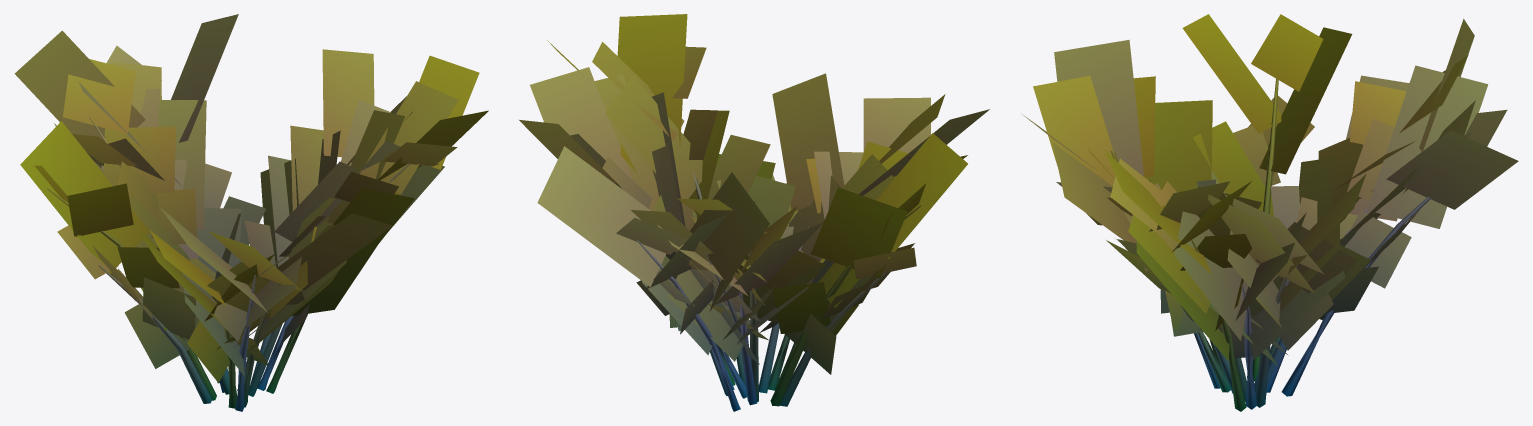
The model's file is huckleberry_a.glb.
The picture shows the model from 3 angles, left to right: view 1: azimuth 30°, elevation 25°; view 2: azimuth 150°, elevation 25°; view 3: azimuth 270°, elevation 25°; orthographic projection. The views are drawn at different scales.
Visible parts, largest first — view 1: LOD0; view 2: LOD0; view 3: LOD0.
Part boxes in pixels (<box>): LOD0: <box>14,14,488,411</box>; LOD0: <box>519,14,989,411</box>; LOD0: <box>1021,14,1518,411</box>.
Size of what is drawn, in the model's own units: 1.57 by 1.13 by 1.53.
